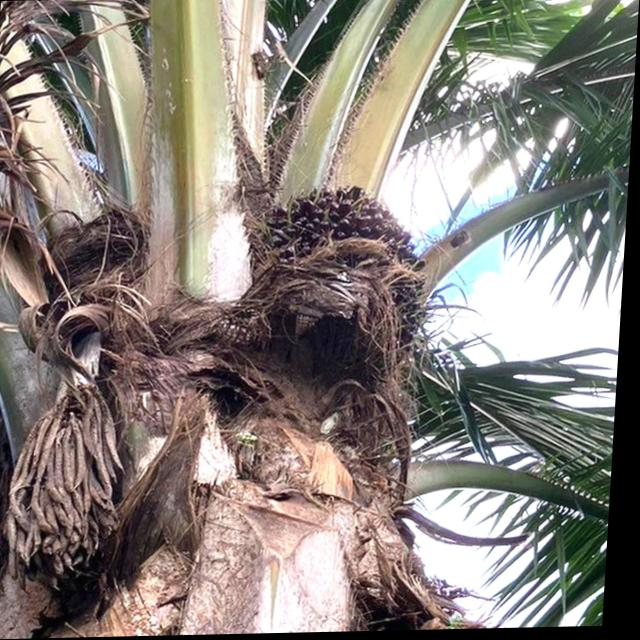ripe: (245, 171, 444, 369)
